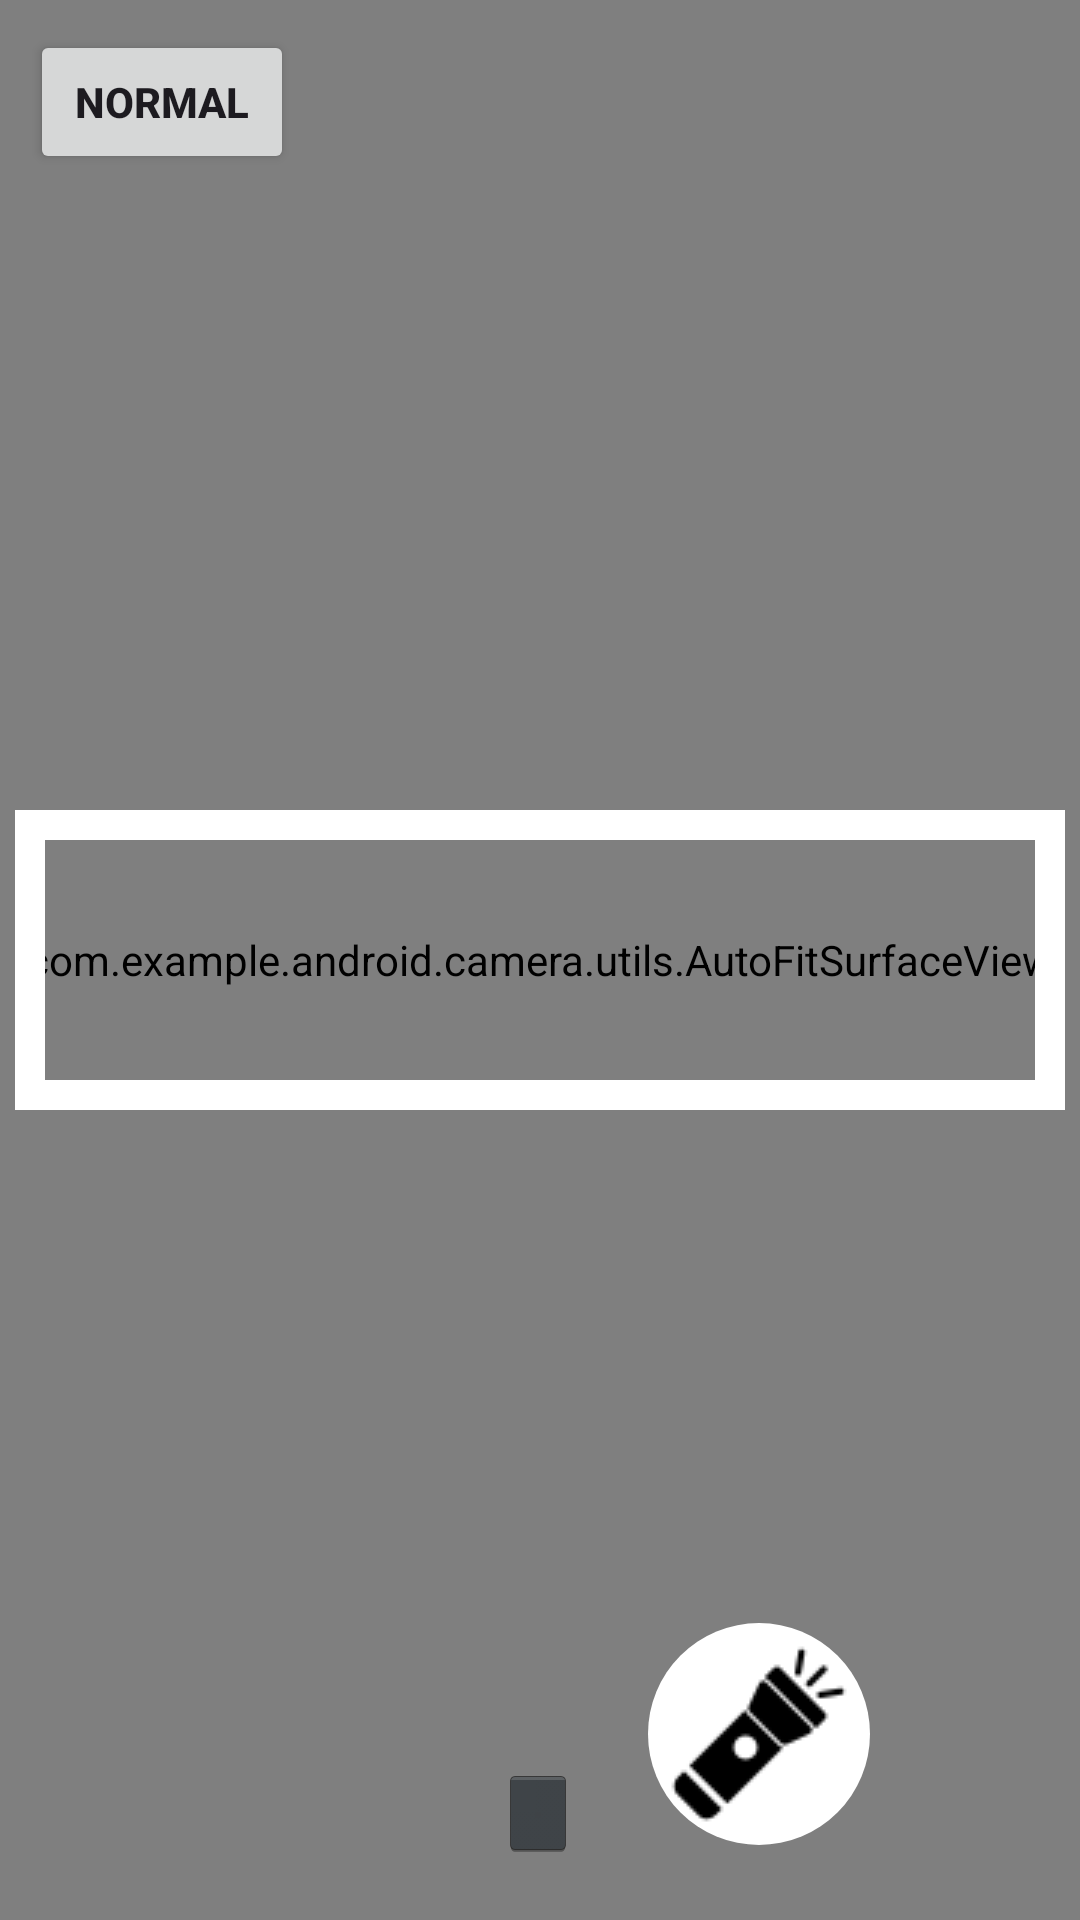

Icons on this 1080 × 1920 Android screen, each with its box as bbox(x1, y1, x2, y2):
flashlight: bbox(648, 1623, 870, 1845)
